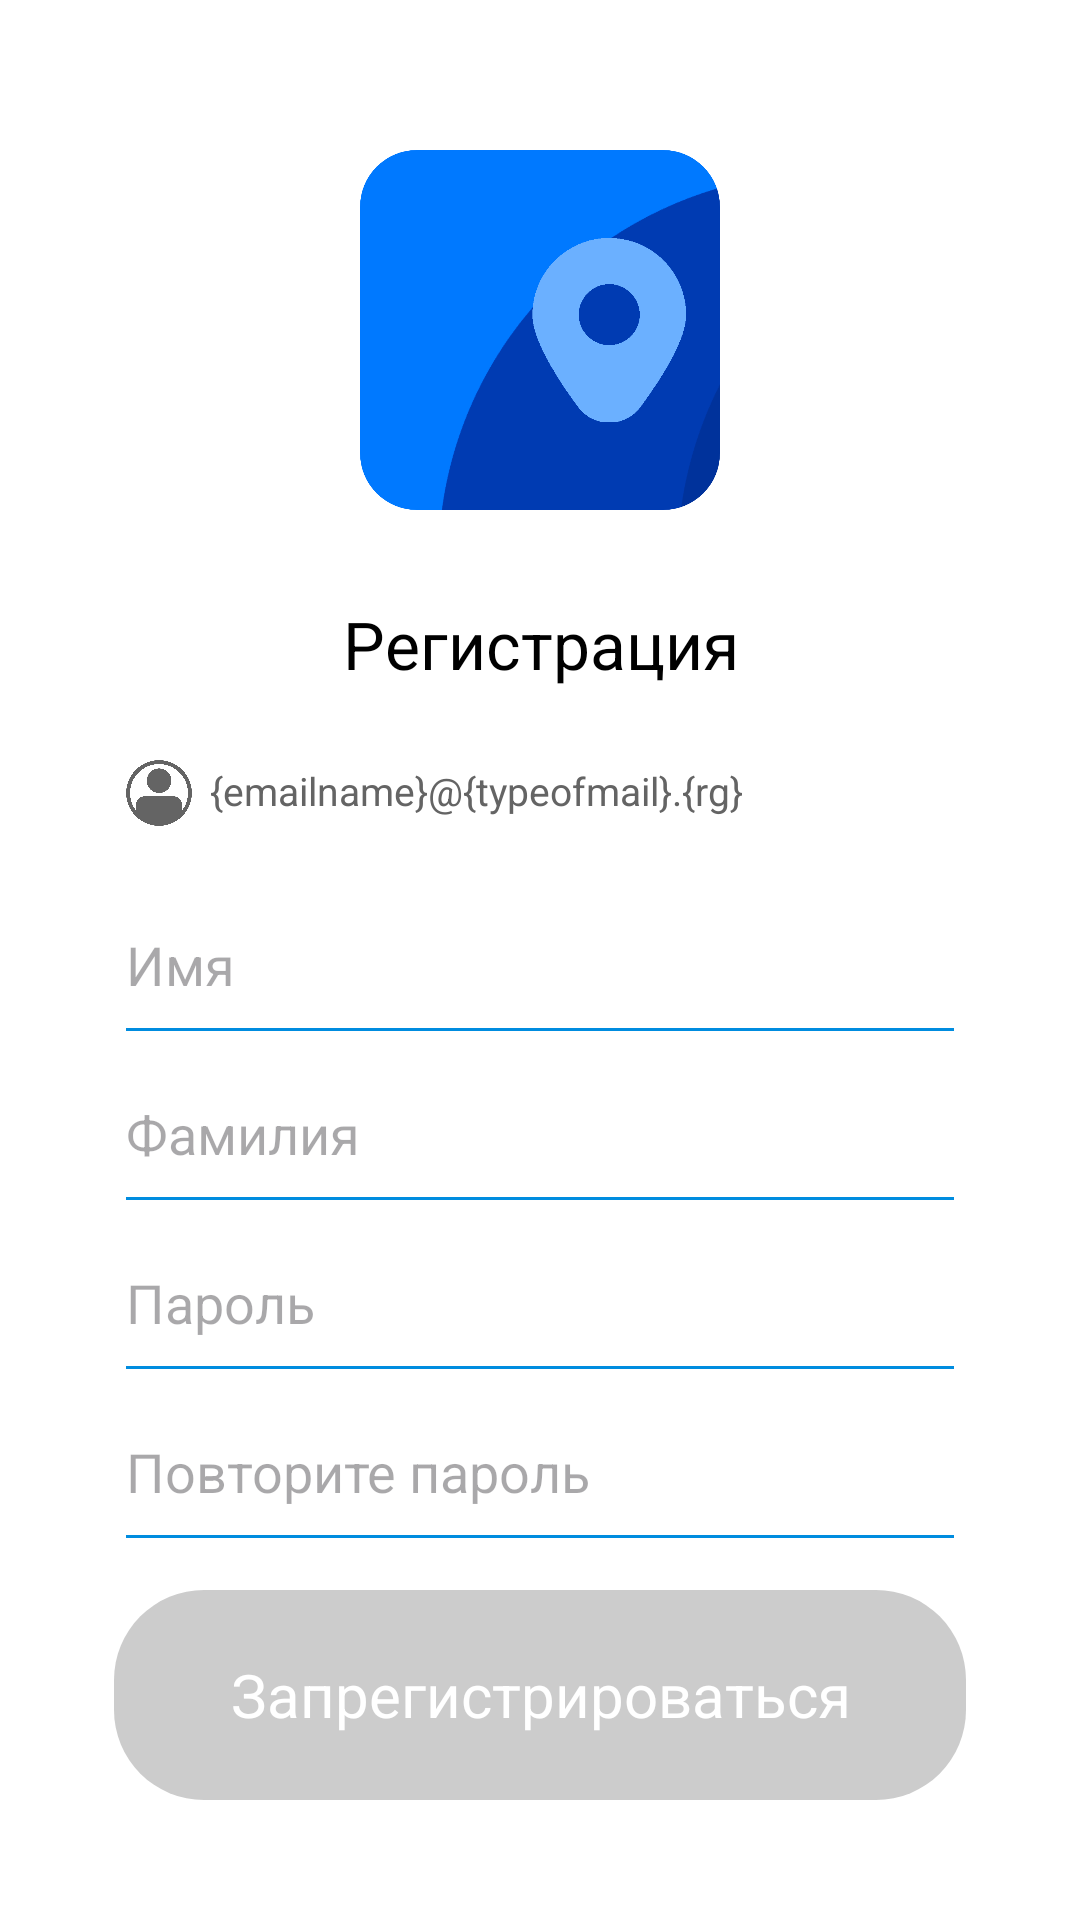

Icons on this 1080×1920 Android screen, each with the point to tap as [x,y]:
userimage: [159,793]
